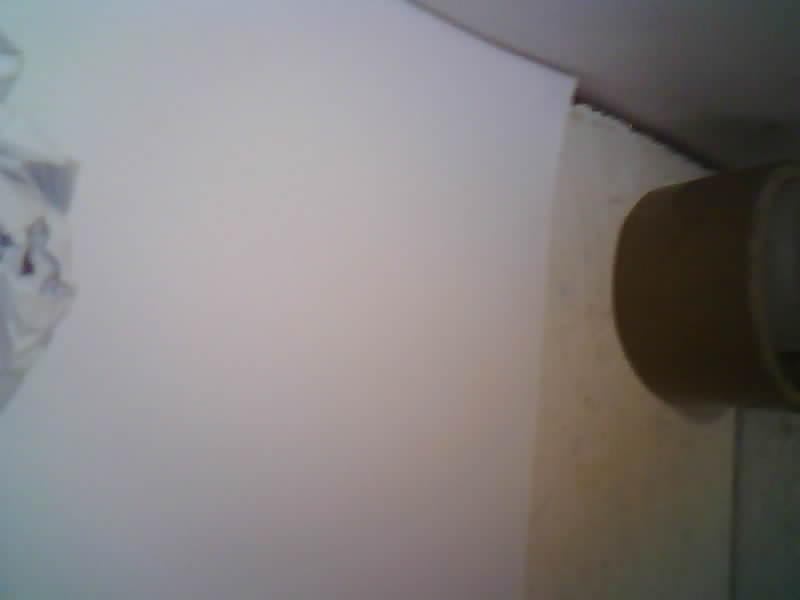biodegradable: (0, 34, 78, 406)
